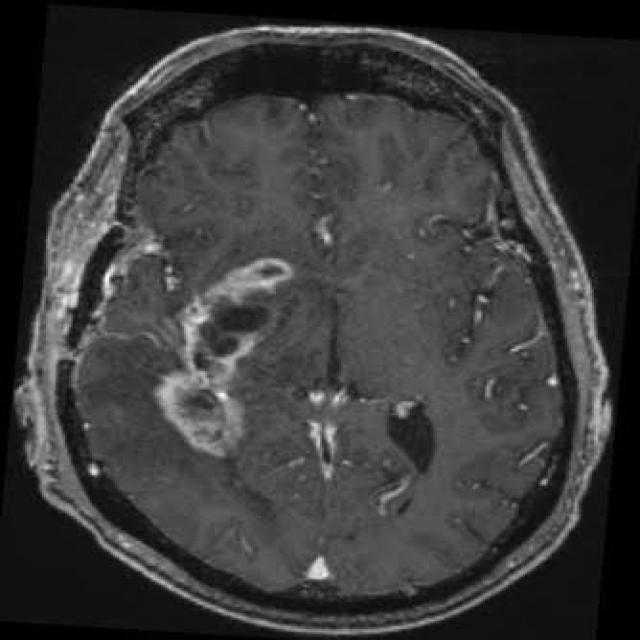tumor: (152, 258, 284, 454)
